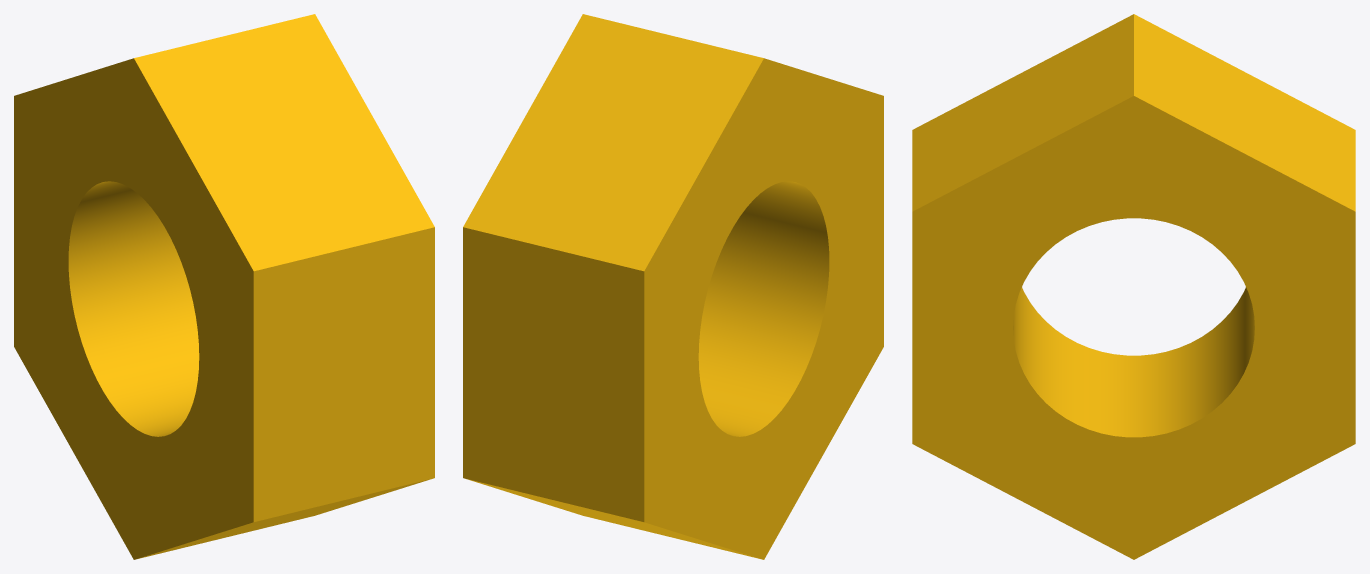
3 renders of one model, left to right at view 1: azimuth 30°, elevation 25°; view 2: azimuth 150°, elevation 25°; view 3: azimuth 270°, elevation 25°, orthographic. The views are drawn at different scales.
Visible parts, largest first — view 1: mesh79085, mesh79089, mesh79087, mesh79084, mesh79091; view 2: mesh79085, mesh79090, mesh79088, mesh79084, mesh79092; view 3: mesh79086, mesh79084, mesh79087, mesh79088.
Boxes of the visible parts, left/top/right/bottom form: mesh79085: left=14, top=58, right=253, bottom=559; mesh79089: left=253, top=227, right=434, bottom=521; mesh79087: left=134, top=14, right=434, bottom=271; mesh79084: left=68, top=181, right=199, bottom=436; mesh79091: left=135, top=478, right=432, bottom=559; mesh79085: left=644, top=58, right=883, bottom=559; mesh79090: left=463, top=227, right=644, bottom=521; mesh79088: left=463, top=14, right=763, bottom=271; mesh79084: left=698, top=181, right=829, bottom=436; mesh79092: left=465, top=478, right=762, bottom=559; mesh79086: left=912, top=96, right=1355, bottom=559; mesh79084: left=1013, top=287, right=1254, bottom=437; mesh79087: left=912, top=14, right=1133, bottom=211; mesh79088: left=1134, top=14, right=1355, bottom=211.
Bounding box in the file's own units: 0.0024 × 0.00635 × 0.0055.
